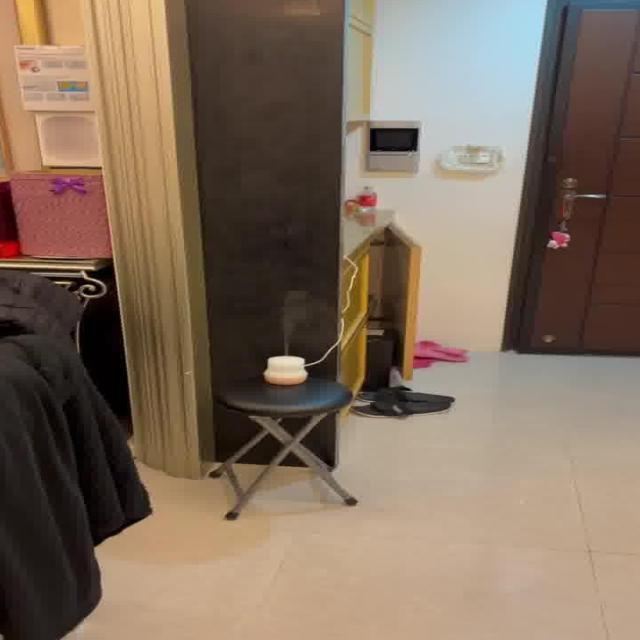fire: (275, 288, 328, 345)
